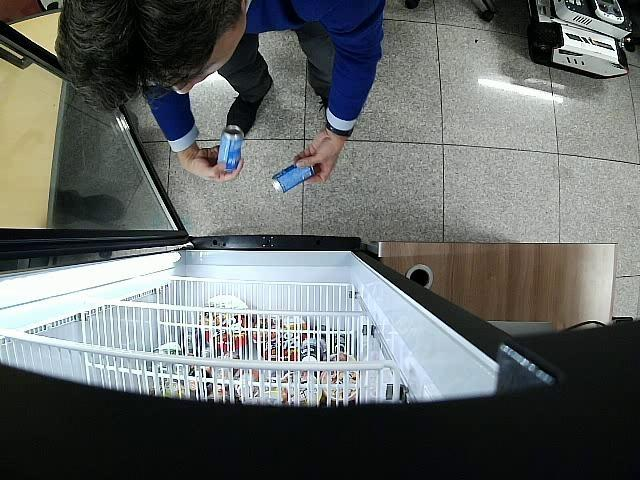15_letsbe: (216, 125, 244, 172), (272, 164, 314, 194)
